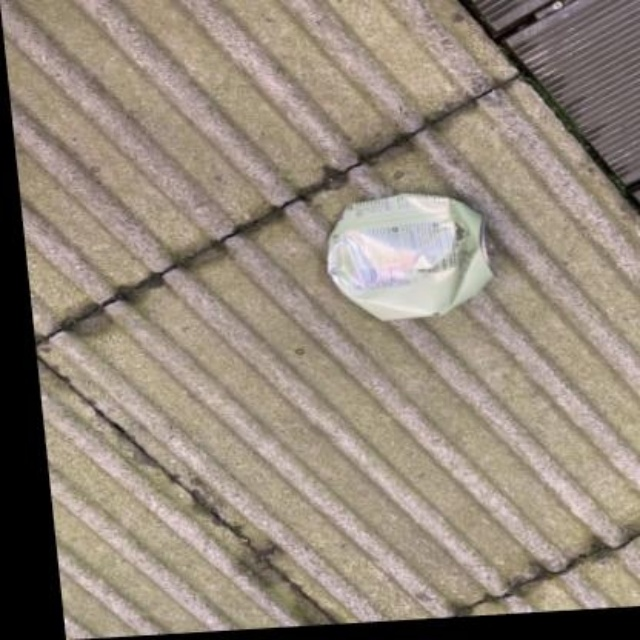trash: (328, 194, 491, 318)
